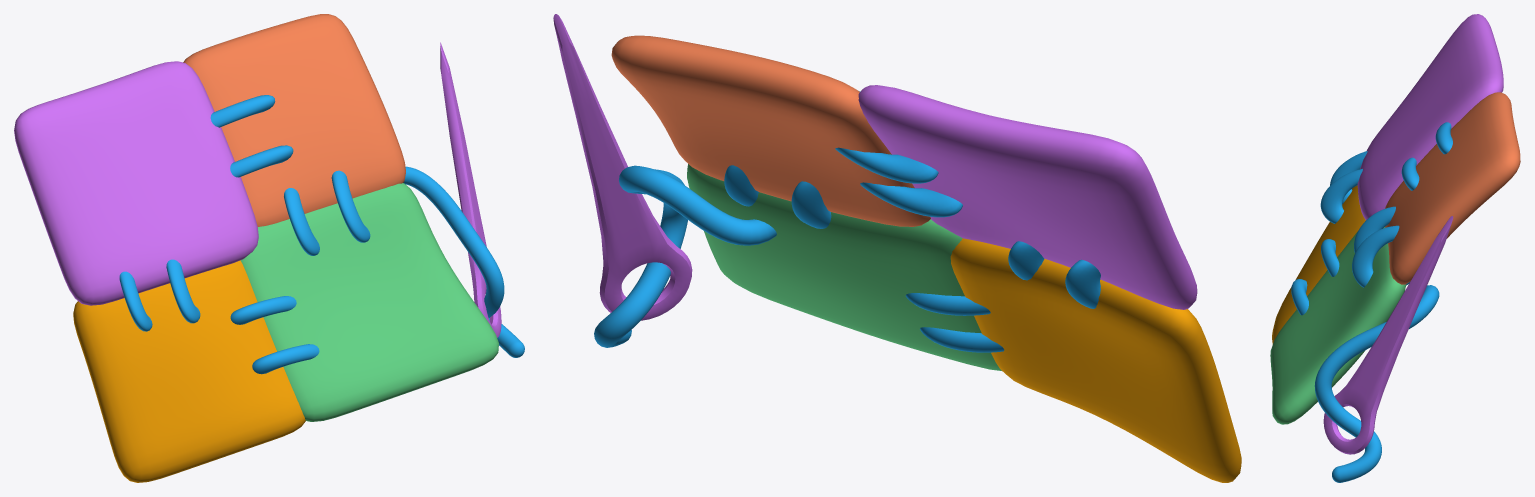
Rendered from 29. Quilting.glb.
3 renders of one model, left to right at view 1: azimuth 30°, elevation 25°; view 2: azimuth 150°, elevation 25°; view 3: azimuth 270°, elevation 25°, orthographic. The views are drawn at different scales.
Parts seen in each view (by area): view 1: Plane, Thread, Needle, Circle.002, Circle.003, Circle.004, Circle.001; view 2: Plane, Needle, Thread, Circle.004, Circle.003, Circle.001, Circle.002; view 3: Plane, Needle, Thread, Circle.002, Circle.001, Circle.003, Circle.004.
Part boxes in pixels (x1,y1,x2,y2): Plane: [14, 14, 498, 482]; Thread: [403, 166, 524, 357]; Needle: [440, 42, 501, 337]; Circle.002: [284, 170, 370, 255]; Circle.003: [230, 296, 319, 374]; Circle.004: [210, 95, 293, 177]; Circle.001: [119, 259, 200, 331]; Plane: [611, 35, 1241, 482]; Needle: [553, 14, 692, 320]; Thread: [594, 165, 776, 347]; Circle.004: [835, 91, 962, 217]; Circle.003: [905, 293, 1004, 352]; Circle.001: [1008, 241, 1100, 308]; Circle.002: [724, 165, 831, 228]; Plane: [1270, 14, 1520, 424]; Needle: [1323, 216, 1453, 454]; Thread: [1314, 285, 1439, 482]; Circle.002: [1352, 206, 1409, 287]; Circle.001: [1320, 151, 1367, 223]; Circle.003: [1291, 239, 1339, 315]; Circle.004: [1401, 122, 1452, 190].
Bounding box in the file's own units: 0.186 × 0.1281 × 0.0973.
